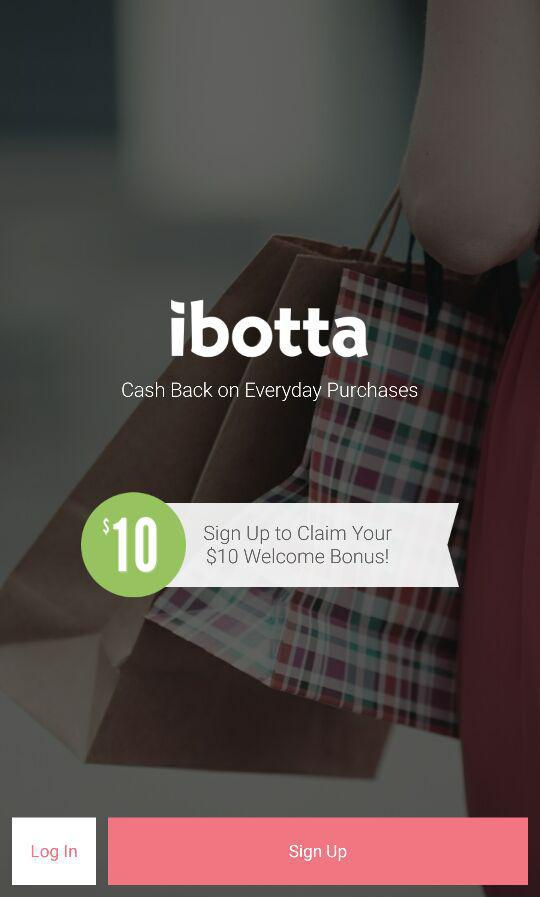BackgroundImage: (1, 1, 540, 897)
Image: (81, 493, 187, 598)
Text: (170, 299, 369, 360), (204, 523, 393, 566), (121, 381, 419, 403)
TextButton: (108, 817, 529, 886), (12, 816, 97, 886)
